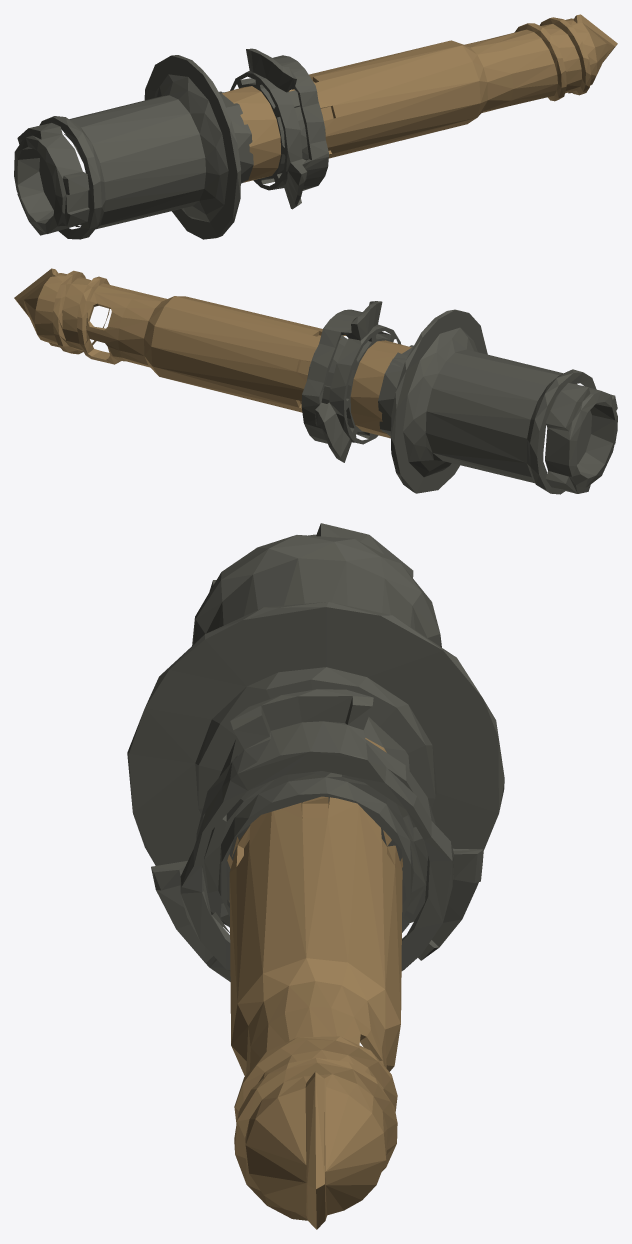
The model's file is RegolithBitInTurretAtZeroFeed.gltf.
The picture shows the model from 3 angles, top to bottom: view 1: azimuth 30°, elevation 25°; view 2: azimuth 150°, elevation 25°; view 3: azimuth 270°, elevation 25°; orthographic projection. The views are drawn at different scales.
Visible parts, largest first — view 1: Mesh_0; view 2: Mesh_0; view 3: Mesh_0.
Boxes of the visible parts, x1,y1,x2,y2 form: Mesh_0: [14, 14, 617, 239]; Mesh_0: [14, 268, 617, 494]; Mesh_0: [127, 523, 504, 1229].
Bounding box in the file's own units: 0.2282 × 0.064 × 0.0641.
1 material, 1 textured.
